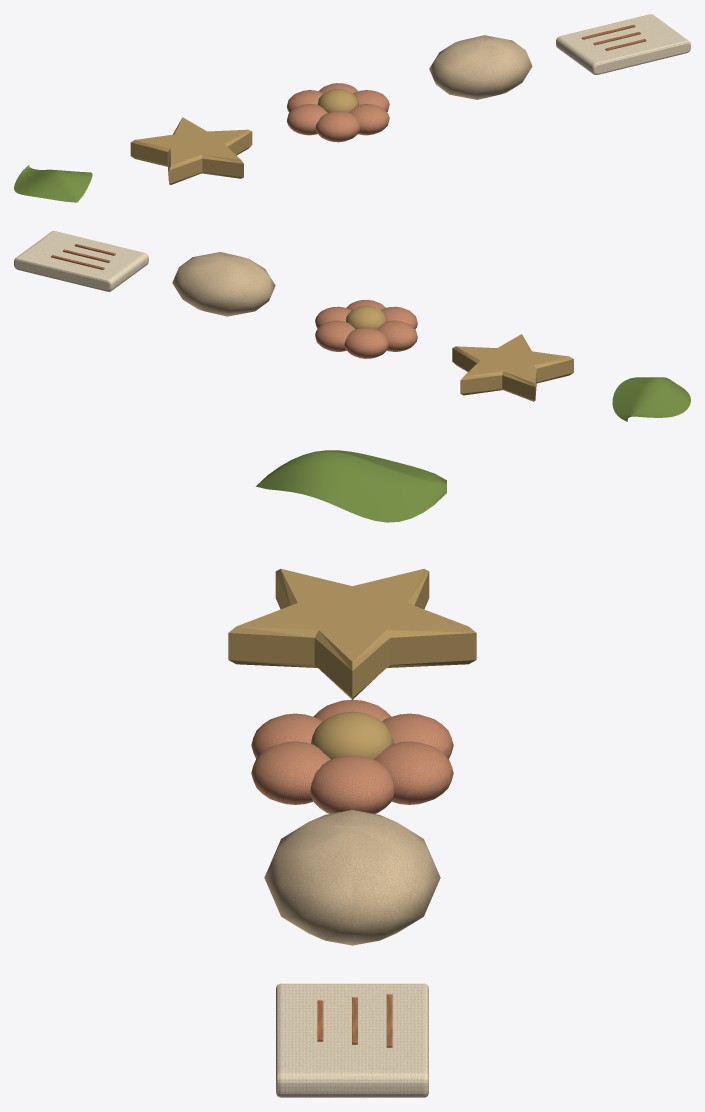
The model's file is memory_tokens.glb.
The picture shows the model from 3 angles, top to bottom: view 1: azimuth 30°, elevation 25°; view 2: azimuth 150°, elevation 25°; view 3: azimuth 270°, elevation 25°; orthographic projection. The views are drawn at different scales.
Visible parts, largest first — view 1: card, stone, star, flower, leaf; view 2: card, stone, star, flower, leaf; view 3: star, flower, stone, card, leaf.
Boxes of the visible parts, x1,y1,x2,y2 form: card: (556, 14, 690, 74); stone: (429, 35, 532, 99); star: (130, 117, 252, 184); flower: (287, 83, 389, 142); leaf: (14, 165, 92, 202); card: (14, 231, 148, 291); stone: (172, 252, 275, 316); star: (452, 334, 573, 401); flower: (315, 300, 417, 358); leaf: (612, 377, 690, 421); star: (228, 569, 476, 699); flower: (251, 699, 453, 813); stone: (264, 810, 440, 945); card: (276, 983, 428, 1097); leaf: (256, 450, 446, 522).
Bounding box in the file's own units: 1.26 × 0.0946 × 0.2075.
6 materials, 4 textured.
